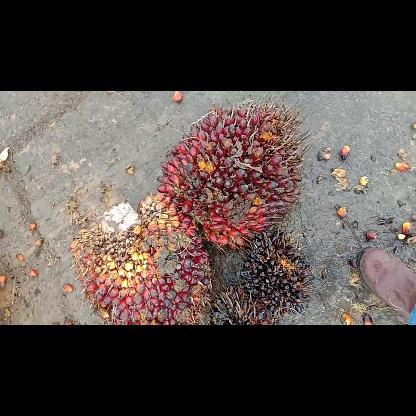TBS abnormal: (236, 225, 316, 317), (206, 282, 282, 324)
TBS masak: (156, 96, 308, 250), (65, 192, 215, 324)
